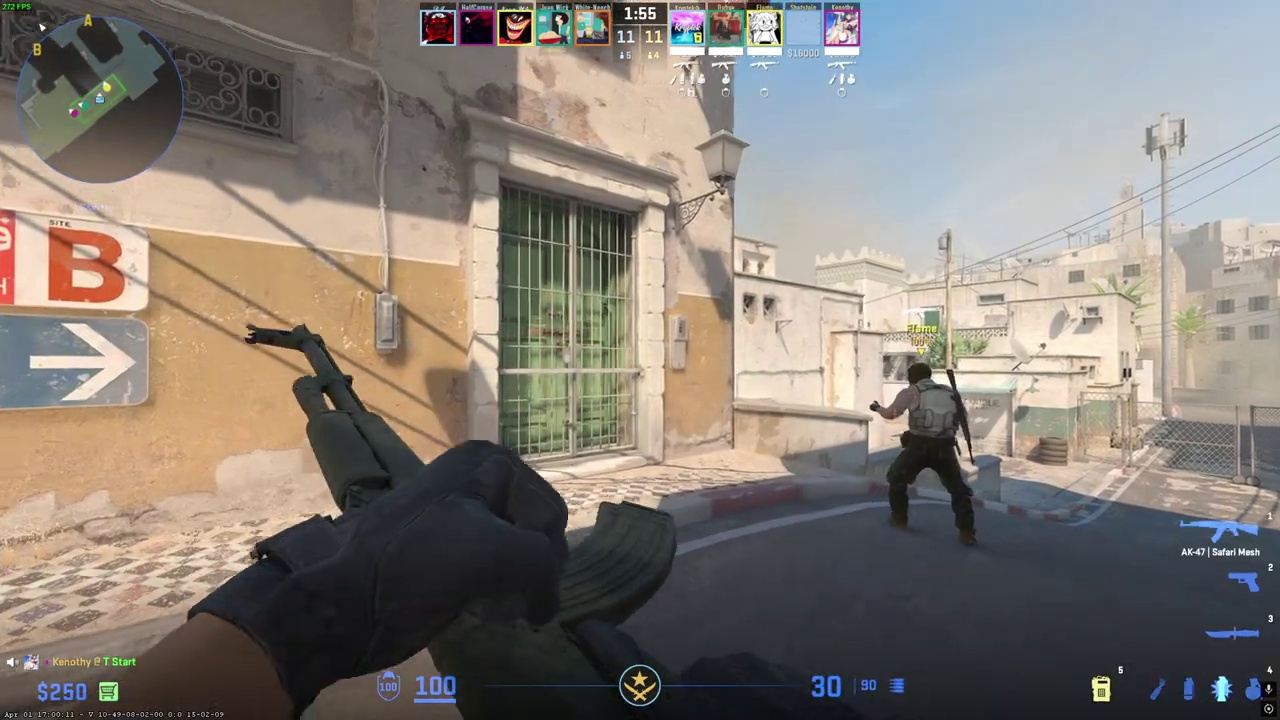Terrorist: (882, 361, 974, 551)
